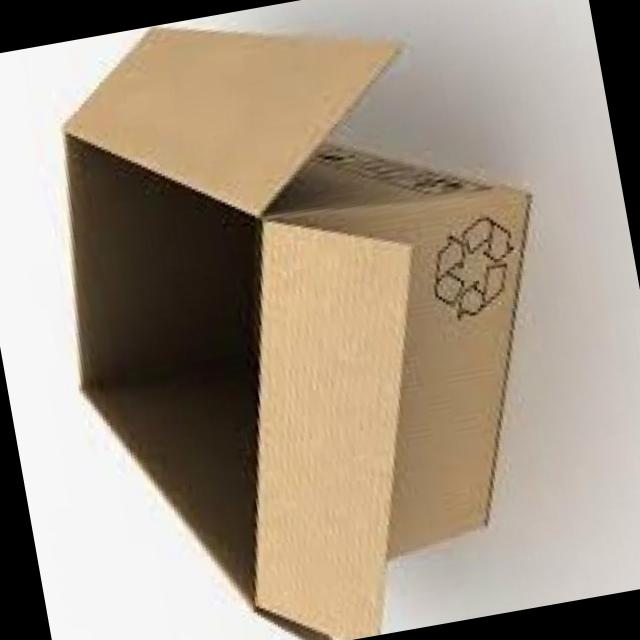cardboard paper: (63, 29, 526, 640)
